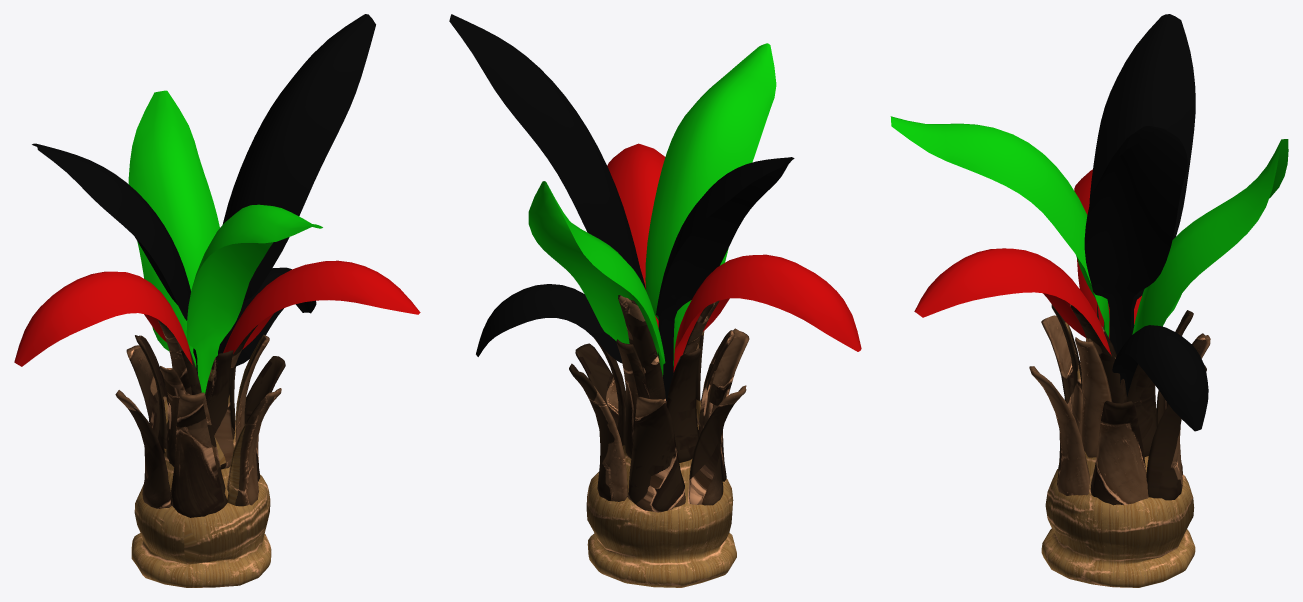
The model's file is Coconut_Tree_00.fbx.
3 renders of one model, left to right at view 1: azimuth 30°, elevation 25°; view 2: azimuth 150°, elevation 25°; view 3: azimuth 270°, elevation 25°, orthographic. The views are drawn at different scales.
Parts seen in each view (by area): view 1: Coconut_Leafs_01_LOD0, Coconut_Trunk_00_LOD0; view 2: Coconut_Leafs_01_LOD0, Coconut_Trunk_00_LOD0; view 3: Coconut_Leafs_01_LOD0, Coconut_Trunk_00_LOD0.
Boxes of the visible parts, left/top/right/bottom form: Coconut_Leafs_01_LOD0: left=14, top=14, right=420, bottom=393; Coconut_Trunk_00_LOD0: left=115, top=319, right=285, bottom=587; Coconut_Leafs_01_LOD0: left=449, top=14, right=861, bottom=402; Coconut_Trunk_00_LOD0: left=569, top=295, right=749, bottom=587; Coconut_Leafs_01_LOD0: left=890, top=14, right=1288, bottom=431; Coconut_Trunk_00_LOD0: left=1029, top=302, right=1210, bottom=587.
Size of what is drawn, in the model's own units: 1.8 by 2.26 by 1.54.
